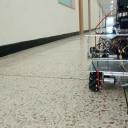cart: (85, 34, 128, 92)
